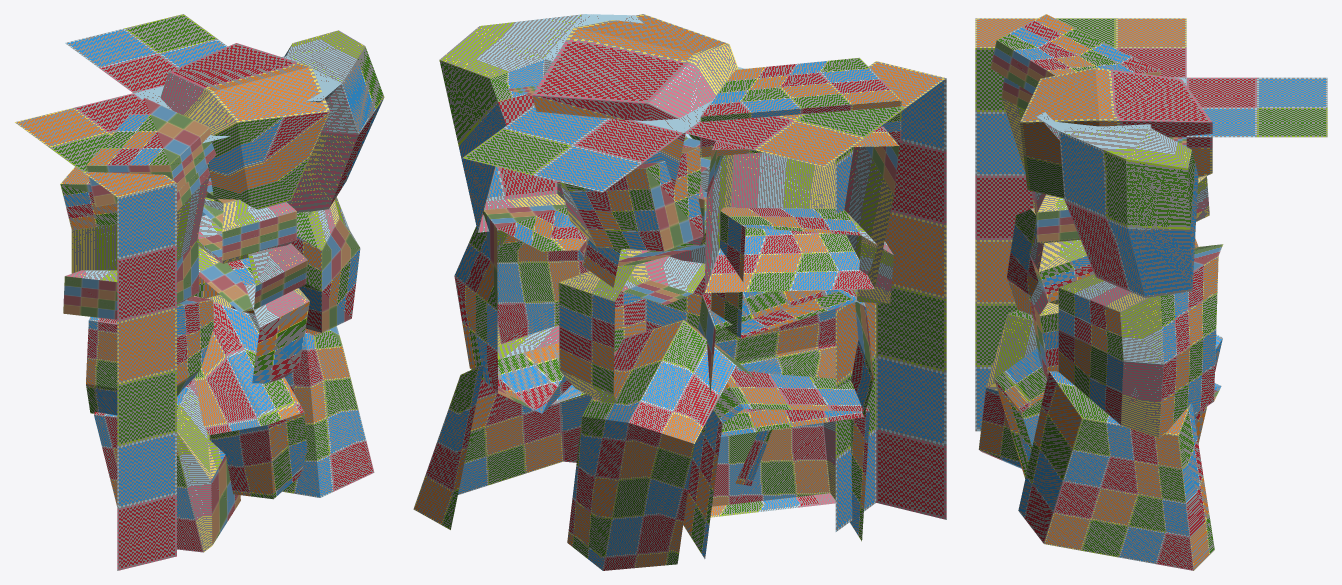
Rendered from cliffs.gltf.
3 views of the same model, side by side, from view 1: azimuth 30°, elevation 25°; view 2: azimuth 150°, elevation 25°; view 3: azimuth 270°, elevation 25° (orthographic). The views are drawn at different scales.
Parts seen in each view (by area): view 1: S_T_cliffs, I_T_cliffs, S_B_cliffs, O_T_cliffs, S_M_cliffs, O_B_cliffs, I_M_cliffs, C_T_cliffs, I_B_cliffs, C_B_cliffs, C_M_cliffs, F_T_cliffs (+1 smaller); view 2: I_T_cliffs, S_T_cliffs, S_B_cliffs, I_M_cliffs, I_B_cliffs, O_B_cliffs, O_M_cliffs, O_T_cliffs, S_M_cliffs, C_B_cliffs, C_M_cliffs, F_T_cliffs (+1 smaller); view 3: O_B_cliffs, O_M_cliffs, O_T_cliffs, S_T_cliffs, I_T_cliffs, F_T_cliffs, C_M_cliffs, C_T_cliffs, S_M_cliffs, S_B_cliffs, I_B_cliffs, C_B_cliffs (+1 smaller).
Boxes of the visible parts, x1,y1,x2,y2 form: S_T_cliffs: [133, 43, 330, 263]; I_T_cliffs: [15, 93, 216, 273]; S_B_cliffs: [193, 295, 307, 499]; O_T_cliffs: [282, 30, 384, 212]; S_M_cliffs: [193, 204, 309, 383]; O_B_cliffs: [282, 326, 374, 497]; I_M_cliffs: [63, 235, 213, 415]; C_T_cliffs: [83, 171, 176, 321]; I_B_cliffs: [94, 378, 240, 552]; C_B_cliffs: [117, 432, 176, 570]; C_M_cliffs: [117, 307, 176, 446]; F_T_cliffs: [65, 14, 227, 92]; I_T_cliffs: [684, 57, 905, 292]; S_T_cliffs: [532, 14, 744, 251]; S_B_cliffs: [567, 320, 771, 570]; I_M_cliffs: [698, 207, 893, 436]; I_B_cliffs: [683, 370, 869, 558]; O_B_cliffs: [413, 334, 635, 529]; O_M_cliffs: [454, 204, 593, 413]; O_T_cliffs: [439, 14, 643, 232]; S_M_cliffs: [558, 192, 707, 403]; C_B_cliffs: [835, 355, 946, 531]; C_M_cliffs: [835, 212, 946, 384]; F_T_cliffs: [462, 105, 683, 192]; O_B_cliffs: [1018, 371, 1216, 570]; O_M_cliffs: [1058, 244, 1223, 437]; O_T_cliffs: [1036, 112, 1198, 297]; S_T_cliffs: [1020, 67, 1212, 243]; I_T_cliffs: [990, 14, 1186, 170]; F_T_cliffs: [1186, 77, 1327, 137]; C_M_cliffs: [975, 175, 1033, 303]; C_T_cliffs: [975, 18, 1037, 175]; S_M_cliffs: [1029, 230, 1198, 378]; S_B_cliffs: [994, 334, 1222, 478]; I_B_cliffs: [978, 310, 1037, 468]; C_B_cliffs: [975, 303, 1017, 431].
Bounding box in the file's own units: 2.97 × 3.33 × 2.5.
Materials: 1 (1 with a texture image).
